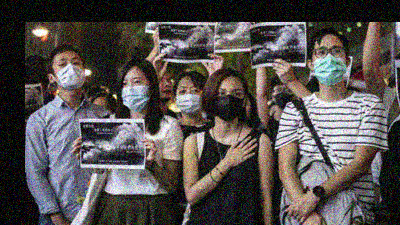with_mask: (313, 42, 347, 86), (213, 86, 246, 124), (120, 74, 151, 112), (54, 55, 87, 89), (176, 83, 202, 115), (274, 86, 297, 109)
